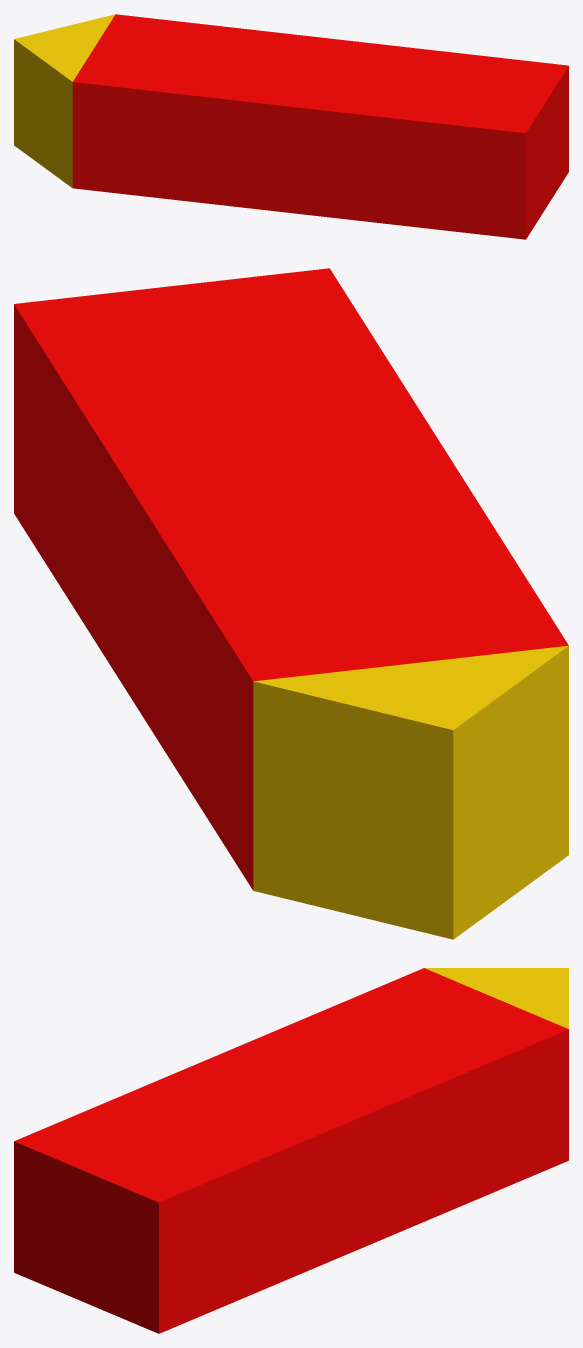
File: serial_test_example_fn_std-sketch-extrude10_output.glb
The picture shows the model from 3 angles, top to bottom: view 1: azimuth 30°, elevation 25°; view 2: azimuth 150°, elevation 25°; view 3: azimuth 270°, elevation 25°; orthographic projection. The views are drawn at different scales.
Size of the model in its own units: 0.00383 by 0.001 by 0.00383.
